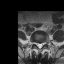CCS_normal: (38, 40, 40, 50)
LFS_normal: (42, 40, 45, 46)
LLS_normal: (40, 40, 42, 49)
RFS_normal: (34, 39, 36, 46)
RLS_normal: (36, 40, 38, 49)
